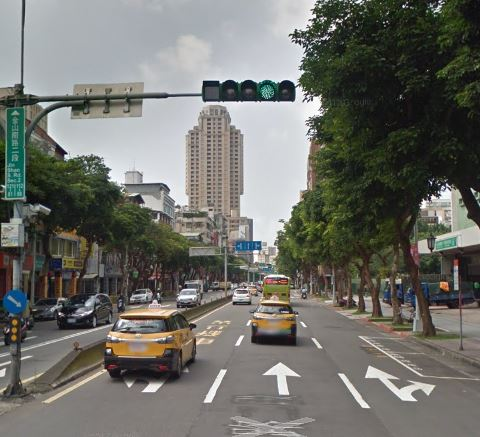Traffic_light_green: (205, 78, 297, 104)
car: (104, 301, 202, 382), (56, 286, 114, 329), (249, 299, 301, 343), (230, 287, 253, 305)
